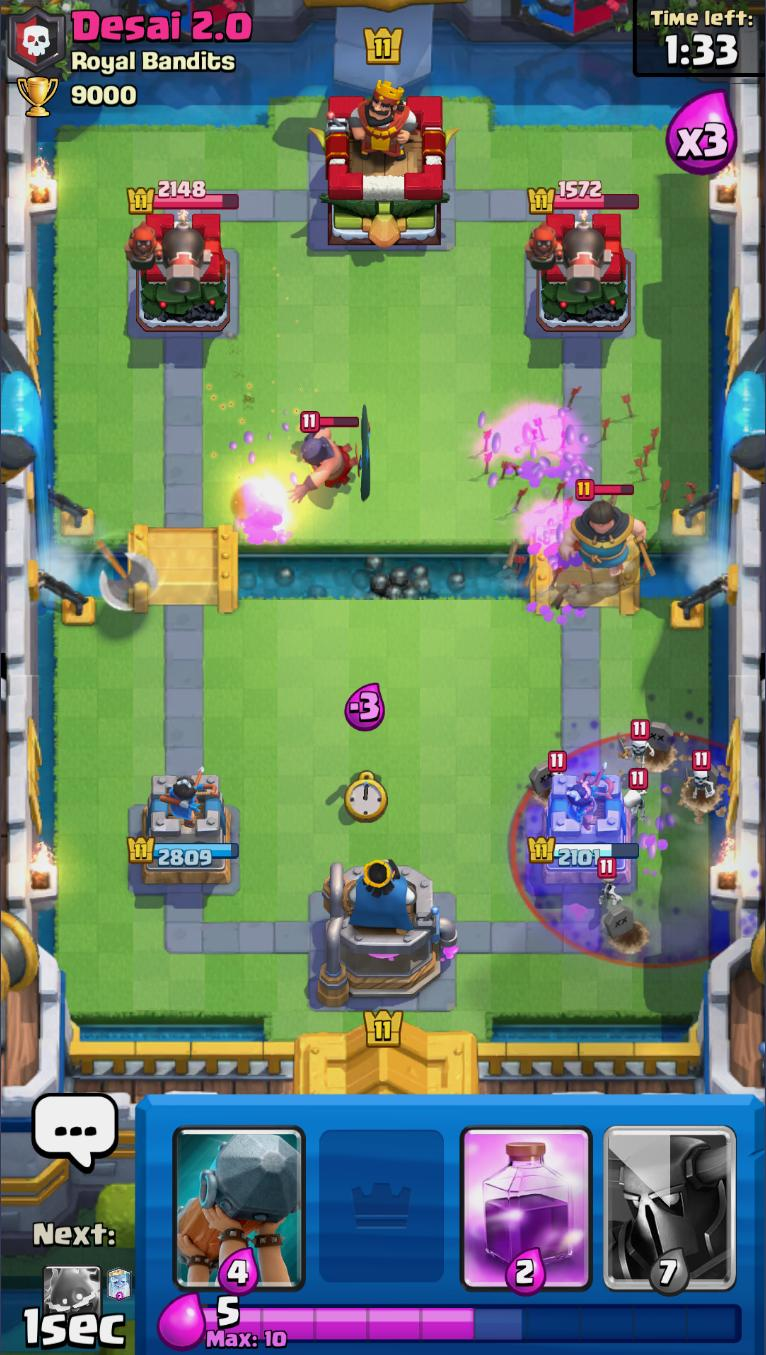Arrows: (475, 384, 700, 586)
BattleRamDeck: (168, 1094, 311, 1295)
Cannoneer: (526, 212, 607, 298), (124, 214, 207, 297)
ElectroSpiritNext: (40, 1264, 105, 1341)
Elixir: (200, 1296, 745, 1350)
Empty: (310, 1094, 456, 1295)
EnemyTower: (524, 209, 633, 333), (125, 207, 231, 332)
Executioner: (288, 413, 360, 506)
Graveyard: (509, 731, 726, 965)
KingTower: (310, 81, 461, 249)
MyKingTower: (314, 855, 460, 1007)
MyPrincessTower: (527, 770, 641, 886), (128, 773, 242, 888)
MyPrincessTowerHP: (127, 836, 240, 867), (527, 837, 640, 866)
PekkaDeck: (600, 1095, 740, 1295)
RageDeck: (456, 1095, 601, 1295)
RascalM: (559, 481, 655, 575)
Skeleton: (619, 718, 655, 771), (684, 750, 717, 802), (597, 860, 625, 908), (623, 768, 649, 818)
TowerPrincessHP: (127, 178, 240, 212), (529, 179, 641, 211)
